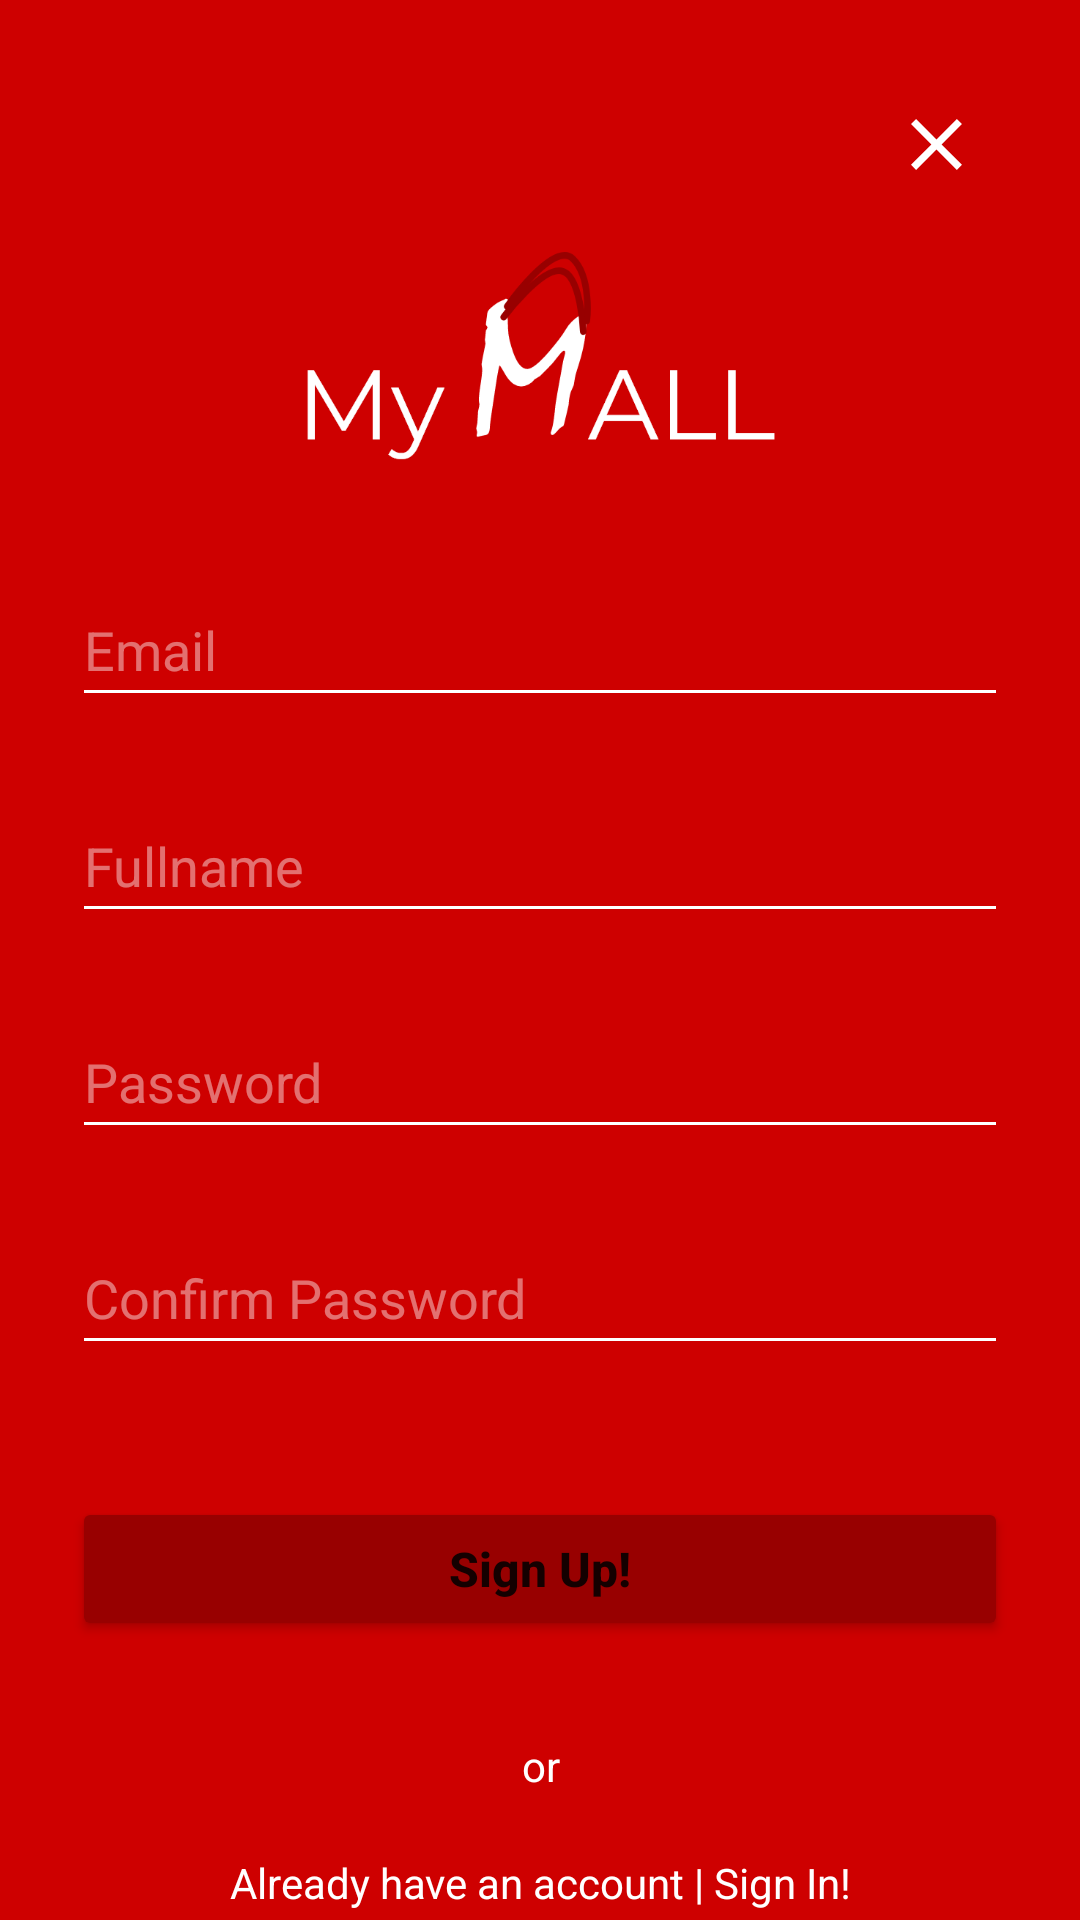

Icons on this 1080w x 1920h Android screen, each with its box as (left=x1, top=y1, right=x2, bottom=y2):
close: (left=911, top=119, right=962, bottom=170)
